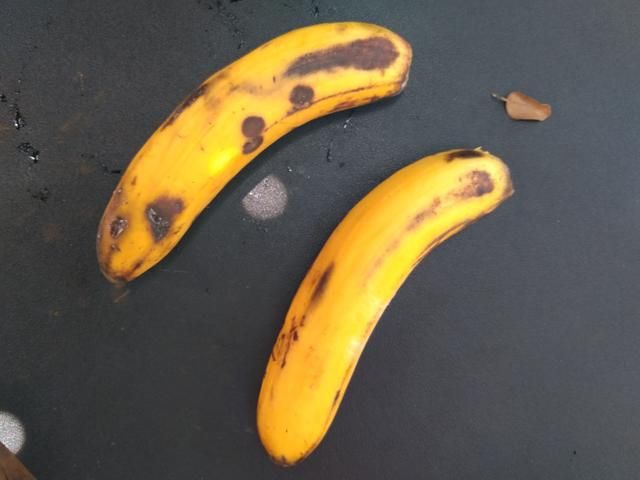overripe: (50, 19, 419, 304), (241, 130, 532, 479)
